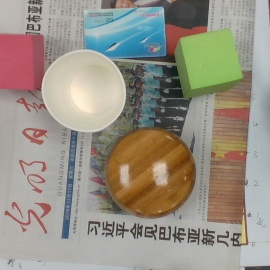card: (81, 7, 167, 56)
chess: (105, 128, 196, 217)
cup: (41, 51, 127, 132)
